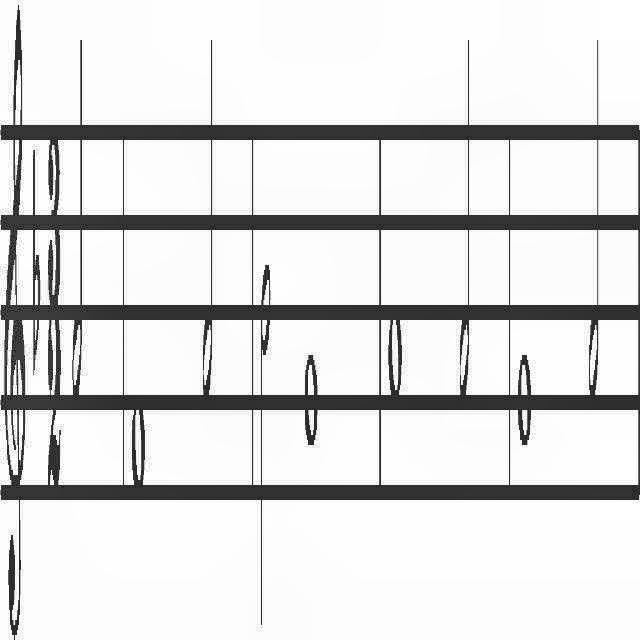Bass-clef: (2, 0, 28, 640)
Bemol: (29, 145, 43, 417)
Full-note: (302, 322, 320, 478), (388, 273, 404, 432), (516, 336, 534, 464), (131, 381, 147, 515)
Half-note: (456, 0, 474, 422), (255, 216, 272, 640), (587, 4, 601, 433), (202, 0, 216, 422), (72, 18, 84, 426)
